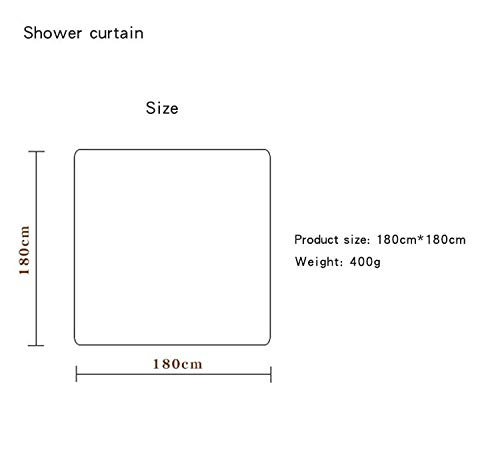180: (154, 359, 180, 369)
180cm: (19, 227, 29, 274)
4009: (350, 257, 380, 268)
Product: (295, 234, 338, 244)
Shower: (24, 26, 82, 39)
Size: (146, 101, 178, 114)
Weight:: (295, 257, 338, 268)
curtain: (90, 26, 143, 39)
size:: (344, 237, 366, 244)
